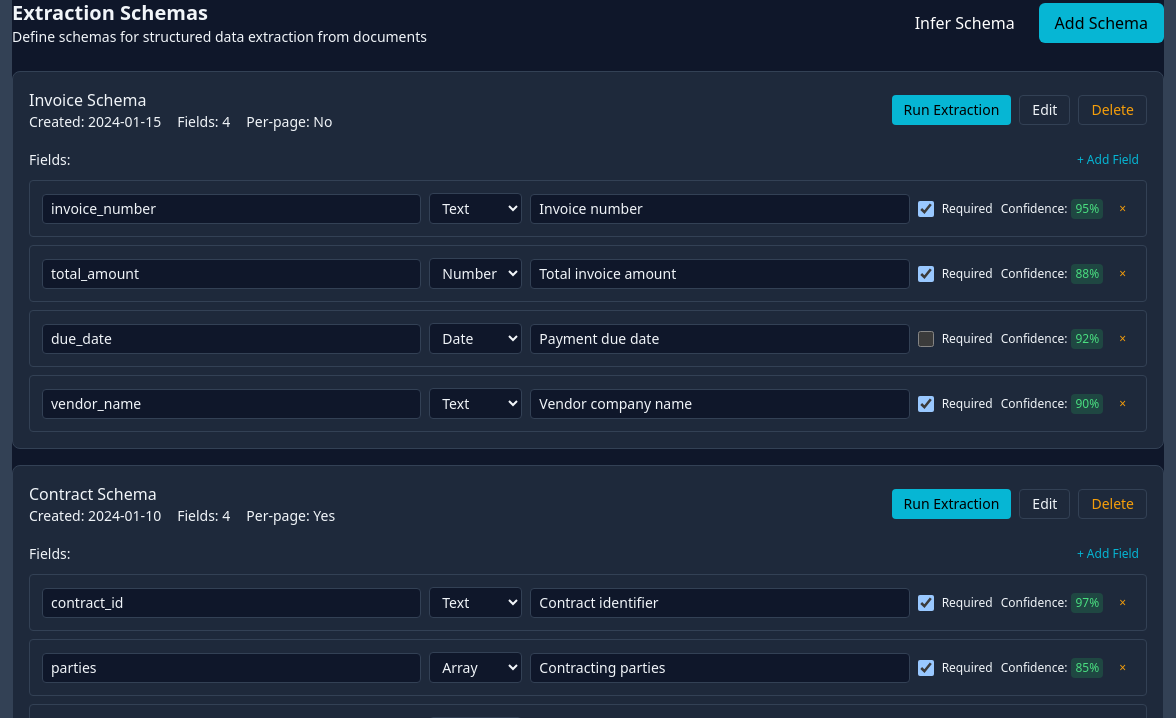
Test case: SchemaEditor › can cancel add schema form
This screenshot has width=1176, height=718.
Open add form
What coordinates should you click on to do the following:
click the button "Add Schema"
I would click on:
 (1101, 23)
Its box is [1039,3,1164,43].
(page scrolled)
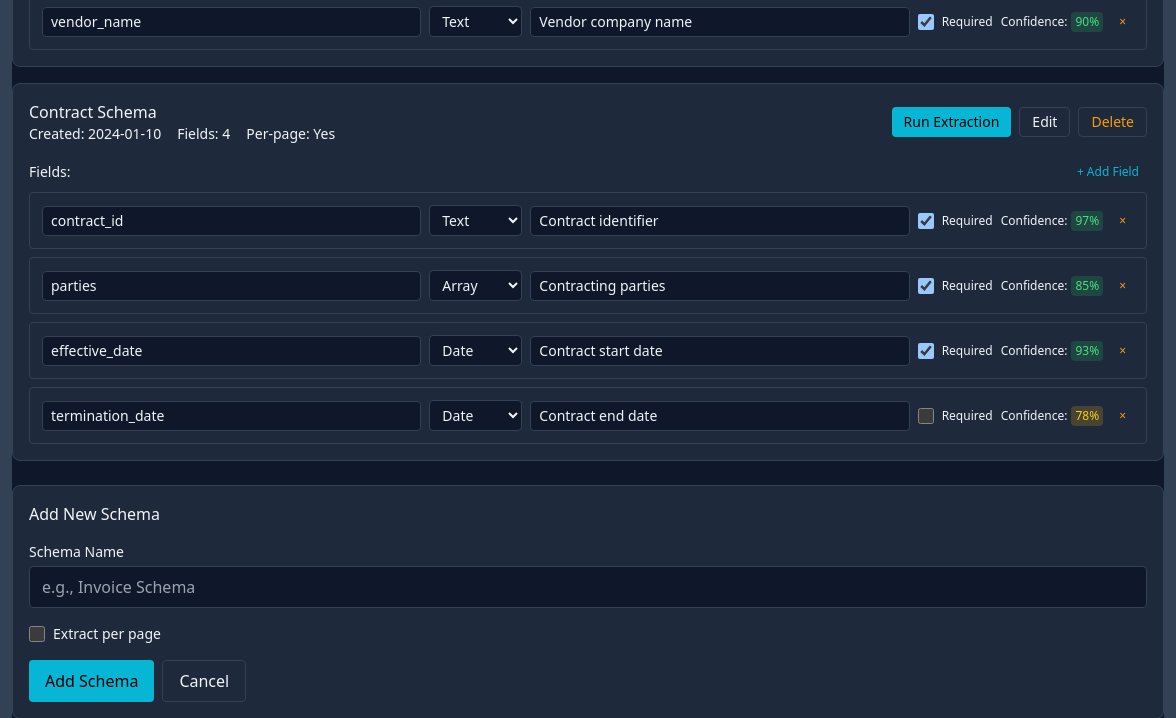
Expected: the heading "Add New Schema" is shown, [29,503,160,525]
Cancel form
What coordinates should you click on to do the following:
click the button "Cancel"
I would click on:
 (204, 681)
Its box is [162,660,246,702].
(page scrolled)
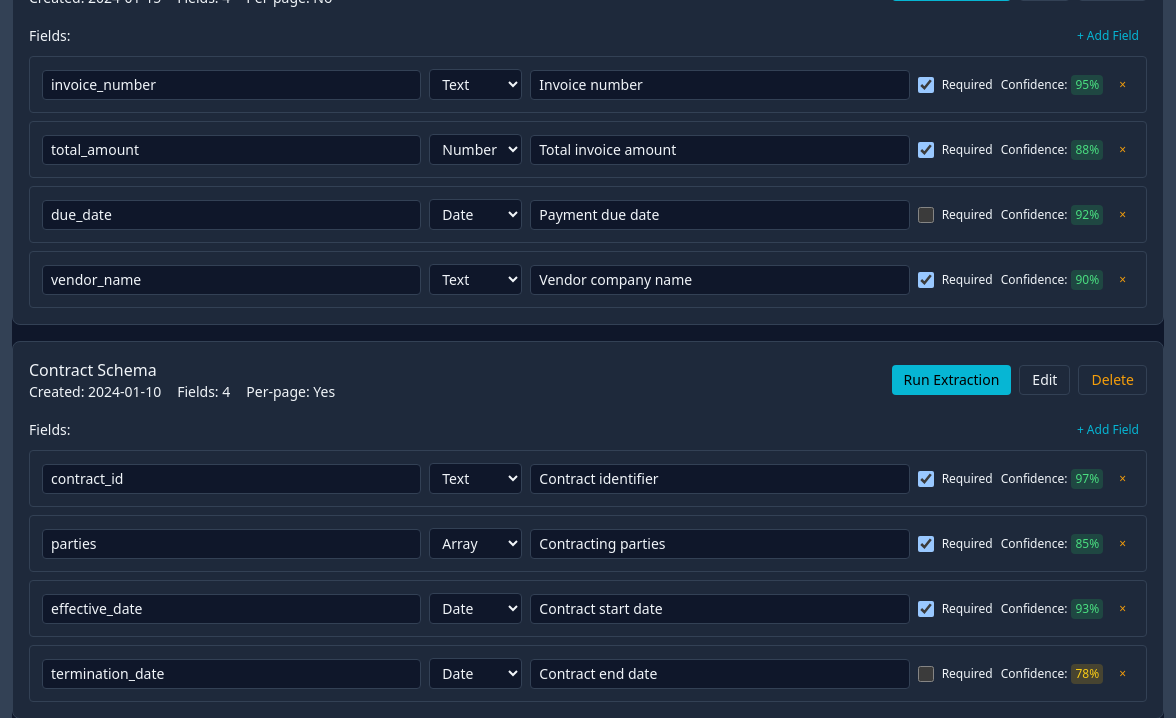
Expected: the heading "Add New Schema" is gone
